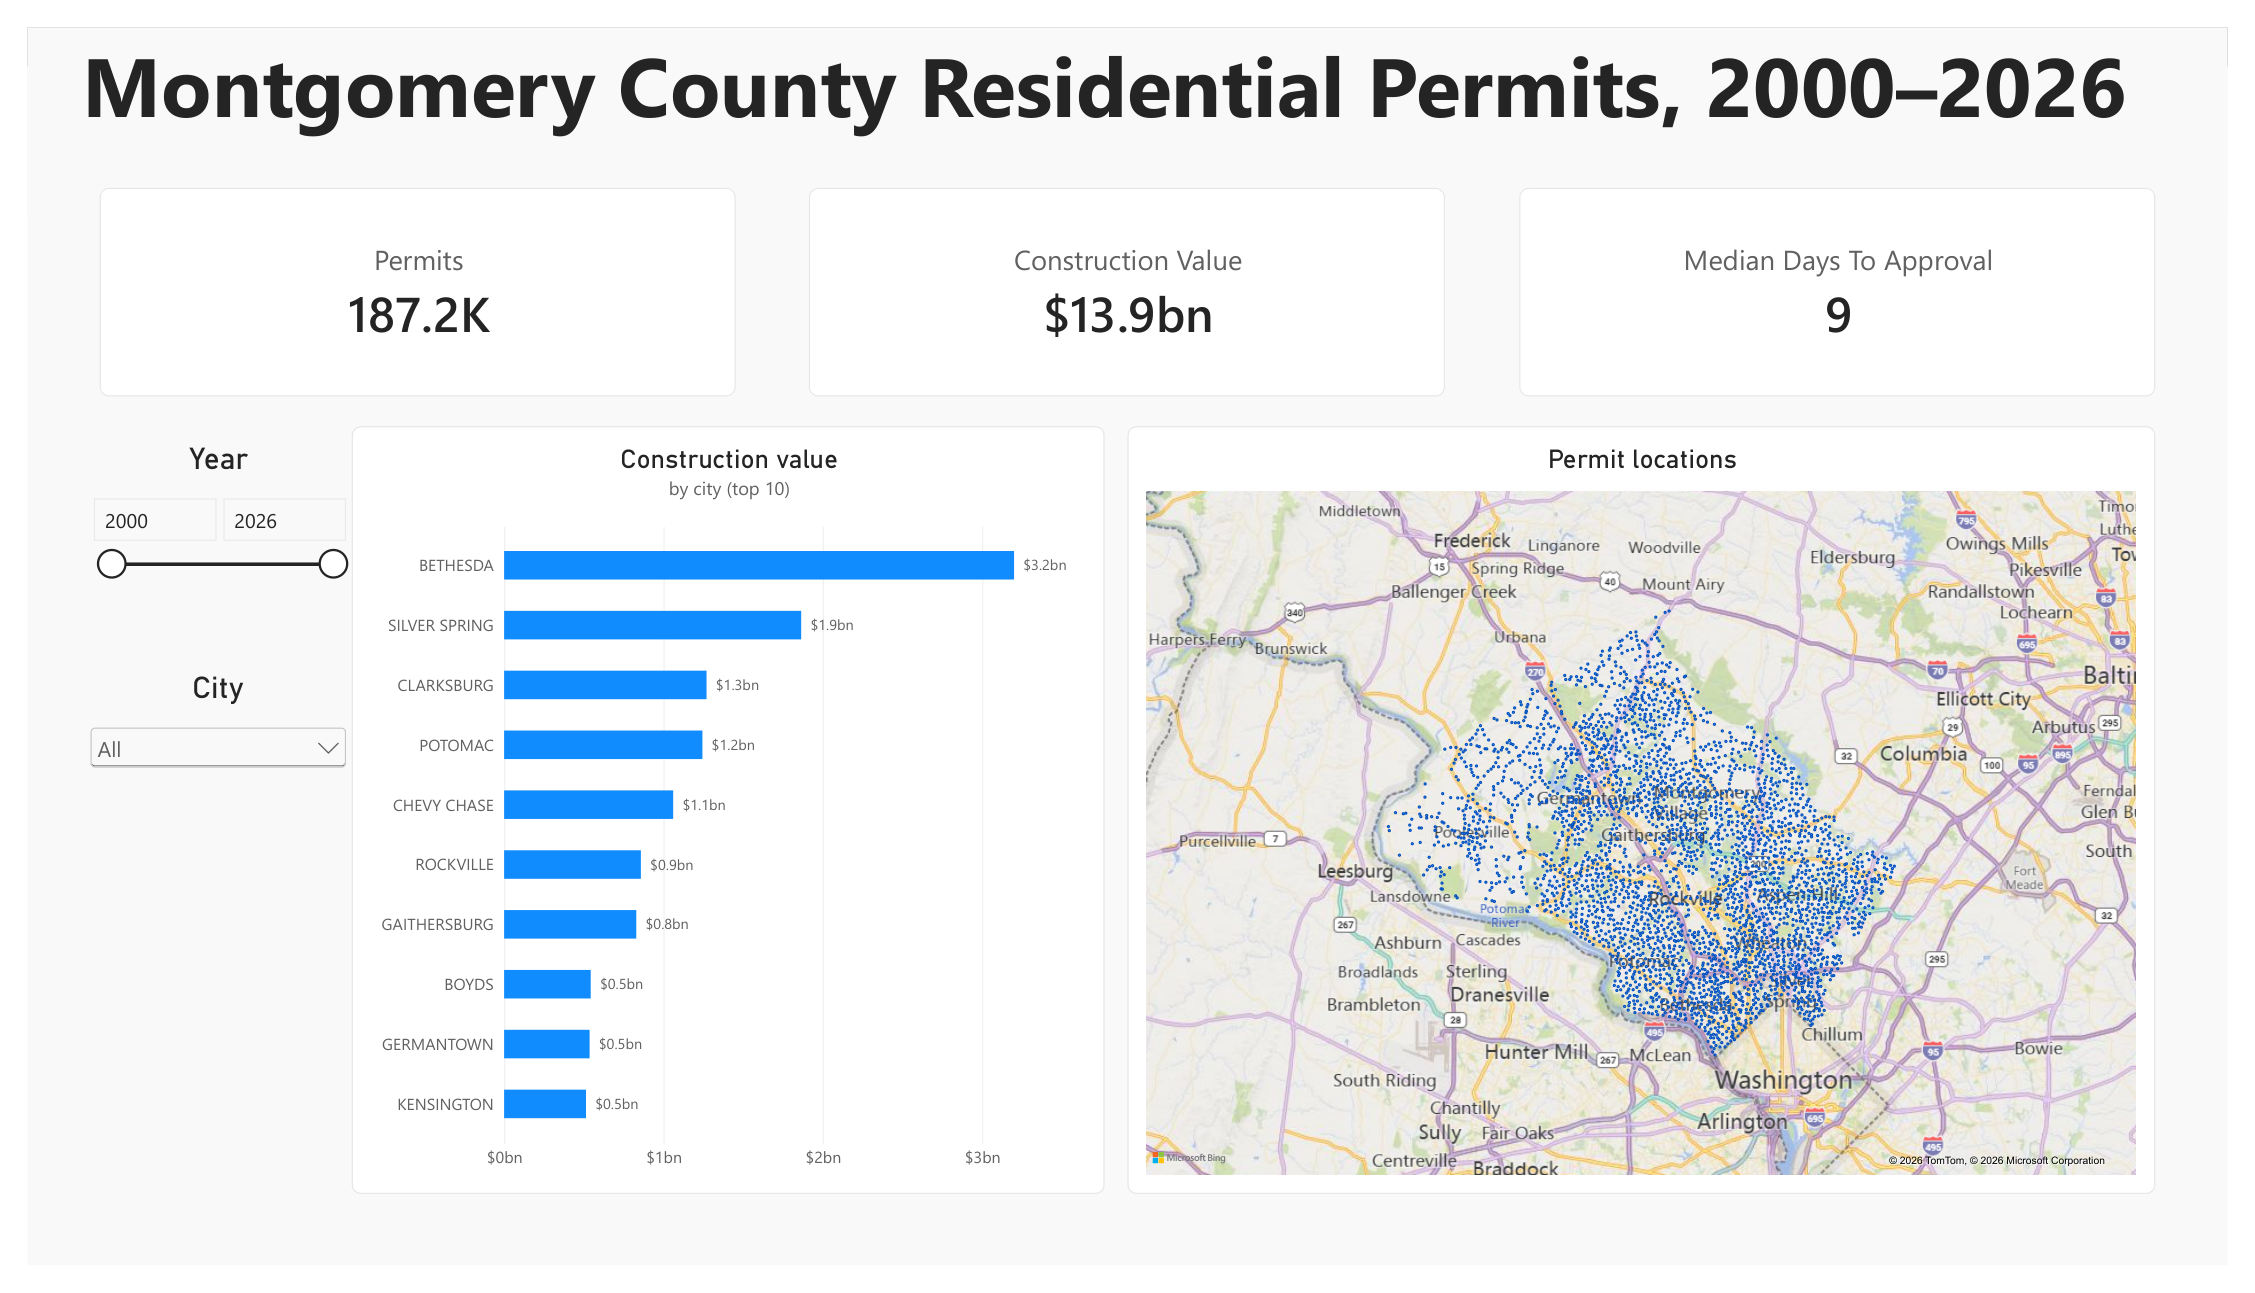

The dashboard page shown, as its layout file describes it:
{"tool":"powerbi","page":{"name":"Montgomery Residential Permits","canvas":[1920,1080],"ordinal":0},"visuals":[{"type":"textbox","box":[10,0,1860,280],"z":0},{"type":"cardVisual","title":"Permits","fields":{"Data":["permits_dashboard.Total Permits"]},"box":[63.3,140,555,181.7],"z":1000},{"type":"cardVisual","fields":{"Data":["permits_dashboard.Total Valuation"]},"box":[681.7,140,555,181.7],"z":2000},{"type":"cardVisual","fields":{"Data":["permits_dashboard.Median Approval Days"]},"box":[1301.7,140,555,181.7],"z":3000},{"type":"clusteredBarChart","title":"Construction value","fields":{"Category":["permits_dashboard.city"],"Y":["permits_dashboard.Total Valuation"]},"box":[283.3,348.3,656.7,670],"z":4000},{"type":"map","title":"Permit locations","fields":{"X":["permits_dashboard.longitude"],"Y":["permits_dashboard.latitude"]},"box":[960,348.3,896.7,670],"z":5000},{"type":"slicer","title":"Year","fields":{"Values":["permits_dashboard.year_added"]},"box":[50,360,233.3,145],"z":6000},{"type":"slicer","title":"City","fields":{"Values":["permits_dashboard.city"]},"box":[50,560,233.3,123.3],"z":7000}]}

Visuals, with their boxes in screenshot pixels (x1, y1, x2, y2), scaled from the page's 1920x1080 canvas onto the 2255x1293 screenshot:
textbox: Rect(12, 0, 2196, 335)
"Permits" cardVisual: Rect(74, 168, 726, 385)
cardVisual - permits_dashboard.Total Valuation: Rect(801, 168, 1452, 385)
cardVisual - permits_dashboard.Median Approval Days: Rect(1529, 168, 2181, 385)
"Construction value" clusteredBarChart: Rect(333, 417, 1104, 1219)
"Permit locations" map: Rect(1128, 417, 2181, 1219)
"Year" slicer: Rect(59, 431, 333, 605)
"City" slicer: Rect(59, 670, 333, 818)
